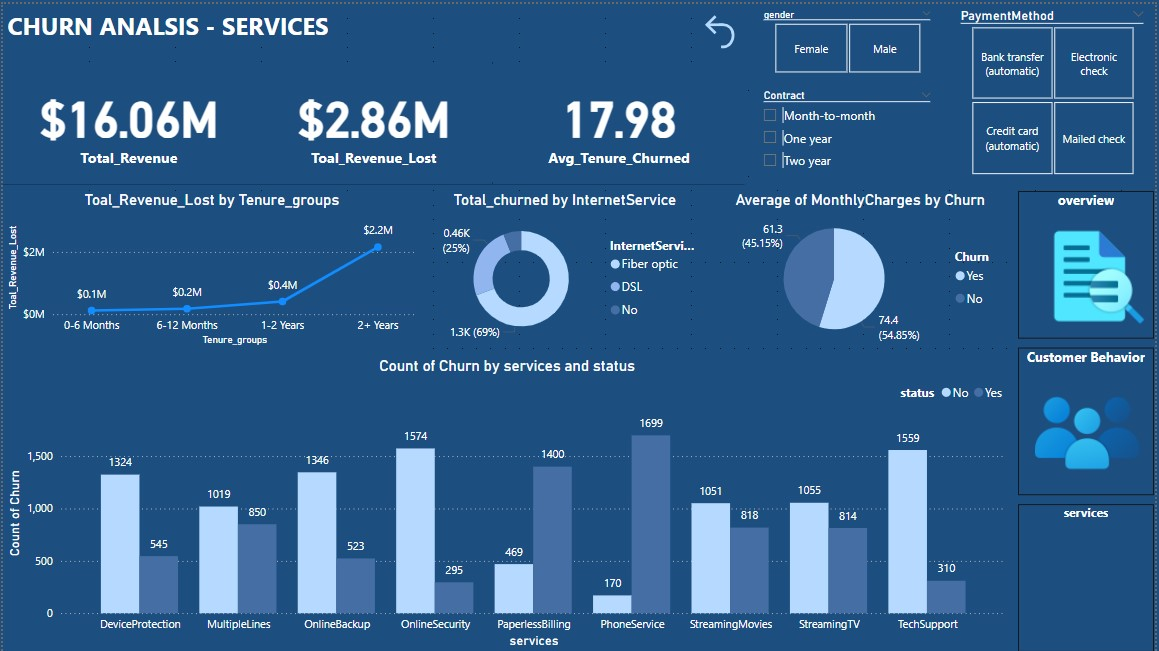

The dashboard page shown, as its layout file describes it:
{"tool":"powerbi","page":{"name":"services","canvas":[1280,720],"ordinal":2},"visuals":[{"type":"slicer","fields":{"Values":["Customer_Churn.gender"]},"box":[832,0,211.2,82.9],"z":0,"group":"g1"},{"type":"card","fields":{"Values":["measures (2).Revenue"]},"box":[0,64,280,136],"z":0,"group":"g2"},{"type":"shape","box":[0,64,824,136],"z":0},{"type":"image","box":[1134.9,235.4,145.1,135.4],"z":0,"group":"g3"},{"type":"image","box":[1136,593,135,110],"z":500,"group":"g3"},{"type":"slicer","fields":{"Values":["Customer_Churn.PaymentMethod"]},"box":[1050.7,0,229.3,195.7],"z":1000,"group":"g1"},{"type":"card","fields":{"Values":["measures (2).Revenue_Lost"]},"box":[280,64,264,136],"z":1000,"group":"g2"},{"type":"lineChart","fields":{"Category":["Tenure_maping.Tenure_Buckets"],"Y":["measures (2).Revenue_Lost"]},"box":[0,208,464,176],"z":1000},{"type":"image","box":[1136.5,410.8,135.2,126.2],"z":1000,"group":"g3"},{"type":"card","fields":{"Values":["measures (2).Avg_Tenure_Churned"]},"box":[544,64,280,136],"z":2000,"group":"g2"},{"type":"slicer","fields":{"Values":["Customer_Churn.Contract"]},"box":[832,89.8,211.3,110.2],"z":2000,"group":"g1"},{"type":"pageNavigator","box":[1128,209,151.6,511],"z":2000,"group":"g3"},{"type":"clusteredColumnChart","fields":{"Category":["Customer_services.services"],"Series":["Customer_services.status"],"Y":["CountNonNull(Customer_services.Churn)"]},"box":[0,392,1120,328],"z":2000},{"type":"donutChart","fields":{"Y":["measures (2).Total_churned"],"Category":["Customer_Churn.InternetService"]},"box":[472,208,304,176],"z":3000},{"type":"textbox","box":[0,0,544,56],"z":4000},{"type":"group","id":"g1","title":"Group 2","box":[832,0,448,200],"z":5000},{"type":"actionButton","box":[767,7,59,44],"z":6000},{"type":"pieChart","fields":{"Category":["Customer_Churn.Churn"],"Y":["Avg(Customer_Churn.MonthlyCharges)"]},"box":[784,208,336,176],"z":7000},{"type":"group","id":"g2","title":"Group 3","box":[0,64,824,136],"z":8000},{"type":"group","id":"g3","title":"Group 1","box":[1128,209,152,511],"z":9000}]}

Visuals, with their boxes in screenshot pixels (x1, y1, x2, y2), scaled from the page's 1280x720 canvas onto the 1159x651 screenshot:
slicer - Customer_Churn.gender: [x1=753, y1=0, x2=945, y2=75]
card - measures (2).Revenue: [x1=0, y1=58, x2=254, y2=181]
shape: [x1=0, y1=58, x2=746, y2=181]
image: [x1=1028, y1=213, x2=1158, y2=335]
image: [x1=1029, y1=536, x2=1151, y2=636]
slicer - Customer_Churn.PaymentMethod: [x1=951, y1=0, x2=1158, y2=177]
card - measures (2).Revenue_Lost: [x1=254, y1=58, x2=493, y2=181]
lineChart - Tenure_maping.Tenure_Buckets x measures (2).Revenue_Lost: [x1=0, y1=188, x2=420, y2=347]
image: [x1=1029, y1=371, x2=1151, y2=486]
card - measures (2).Avg_Tenure_Churned: [x1=493, y1=58, x2=746, y2=181]
slicer - Customer_Churn.Contract: [x1=753, y1=81, x2=945, y2=181]
pageNavigator: [x1=1021, y1=189, x2=1158, y2=650]
clusteredColumnChart - Customer_services.services x Customer_services.status: [x1=0, y1=354, x2=1014, y2=650]
donutChart - measures (2).Total_churned x Customer_Churn.InternetService: [x1=427, y1=188, x2=703, y2=347]
textbox: [x1=0, y1=0, x2=493, y2=51]
"Group 2" group: [x1=753, y1=0, x2=1158, y2=181]
actionButton: [x1=694, y1=6, x2=748, y2=46]
pieChart - Customer_Churn.Churn x Avg(Customer_Churn.MonthlyCharges): [x1=710, y1=188, x2=1014, y2=347]
"Group 3" group: [x1=0, y1=58, x2=746, y2=181]
"Group 1" group: [x1=1021, y1=189, x2=1158, y2=650]
